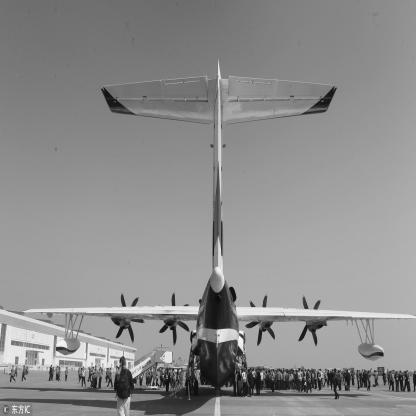AG600: (22, 59, 416, 399)
